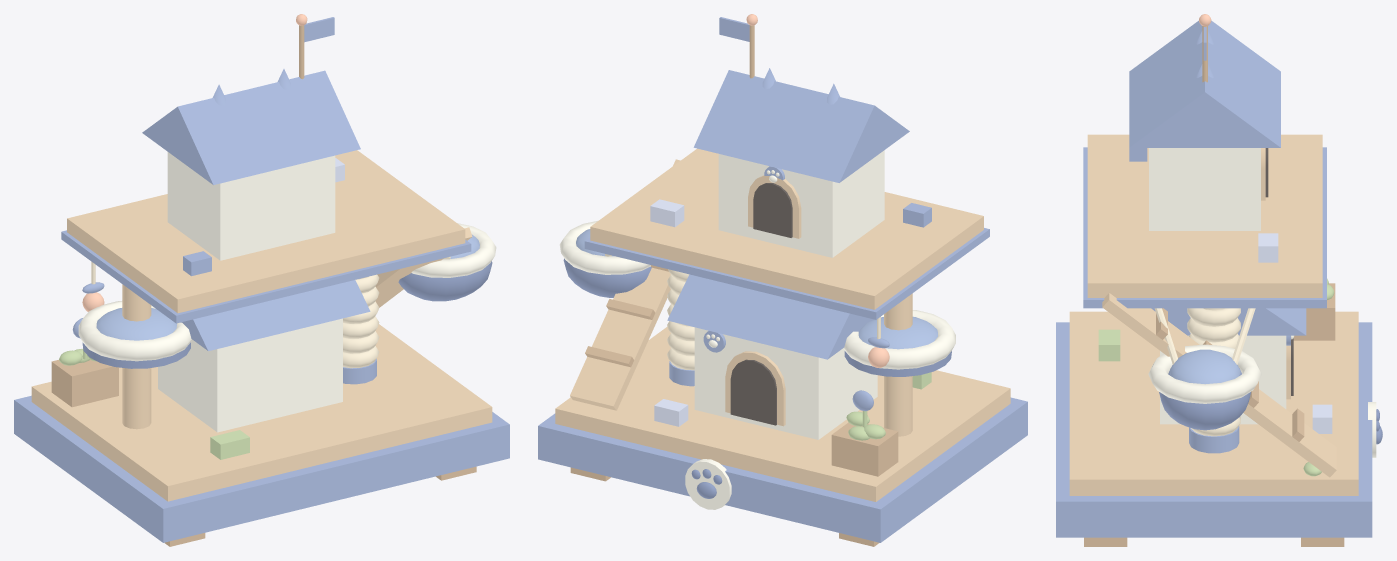
Rendered from cat_tower_blue_01_muted_unlit.glb.
3 renders of one model, left to right at view 1: azimuth 30°, elevation 25°; view 2: azimuth 150°, elevation 25°; view 3: azimuth 270°, elevation 25°, orthographic. The views are drawn at different scales.
Parts seen in each view (by area): view 1: cat_tower_blue; view 2: cat_tower_blue; view 3: cat_tower_blue.
Part boxes in pixels (box(x1,y1,x2,y2)): cat_tower_blue: box(14, 14, 509, 546); cat_tower_blue: box(538, 14, 1027, 546); cat_tower_blue: box(1056, 14, 1382, 546).
Size of the model in its own units: 2.69 by 2.88 by 1.81.
